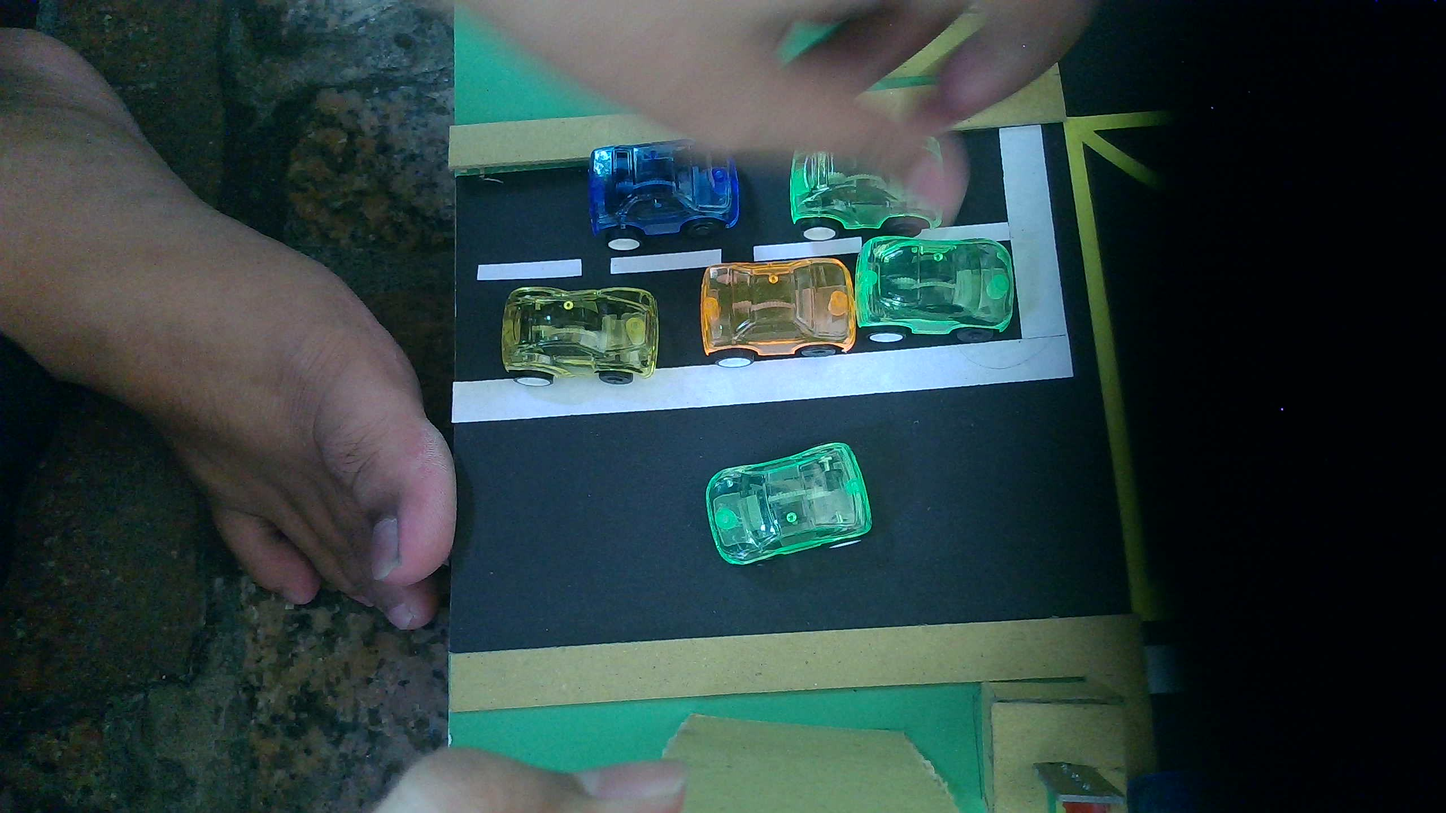Mobil biru: (589, 139, 739, 250)
Mobil hijau: (856, 236, 1015, 342), (789, 152, 943, 239)
Mobil kuning: (502, 287, 658, 385)
Mobil orange: (699, 257, 856, 366)
